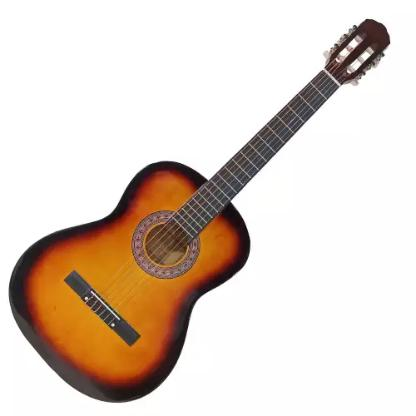acousticguitar: (8, 18, 390, 404)
